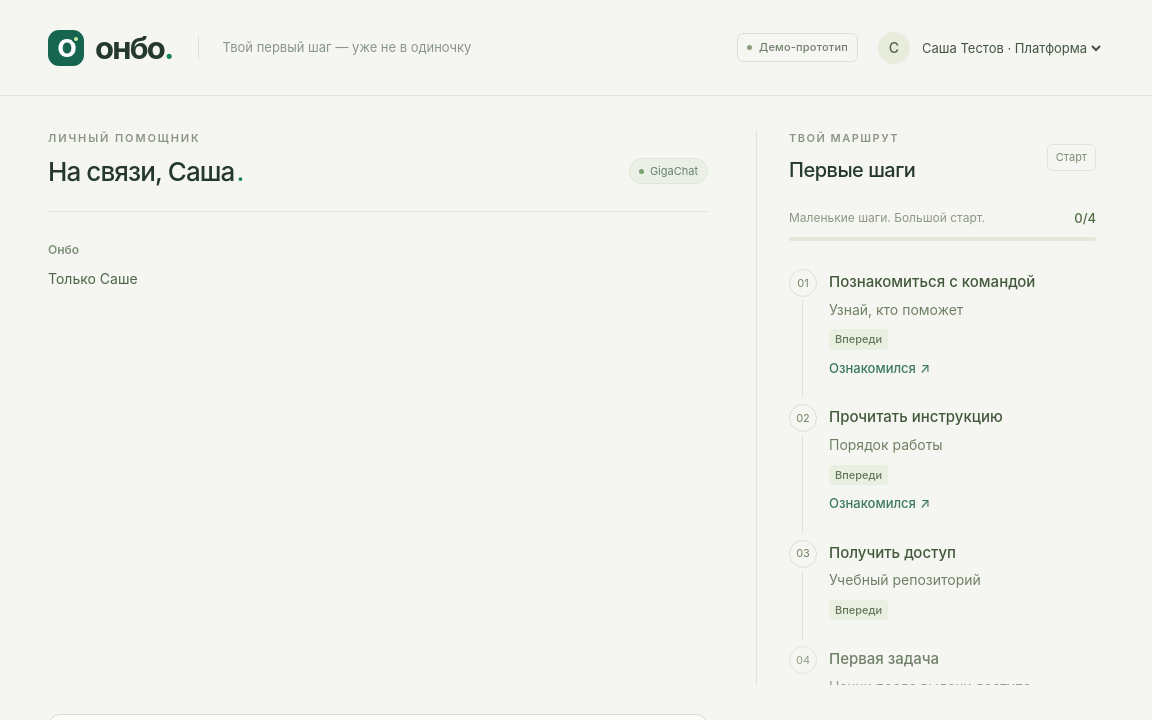
it: Onbo workspace › switches profiles without retaining the previous history and hides simulation controls outside demo mode
Expected: the heading "На связи, Саша." is shown, [48, 154, 243, 188]
Expected: the text "GigaChat" is shown, [629, 158, 708, 184]
Select "Маша Демо · Аналитика" in the dropdown named "Тестовый профиль": [1011, 48] box [918, 32, 1104, 64]
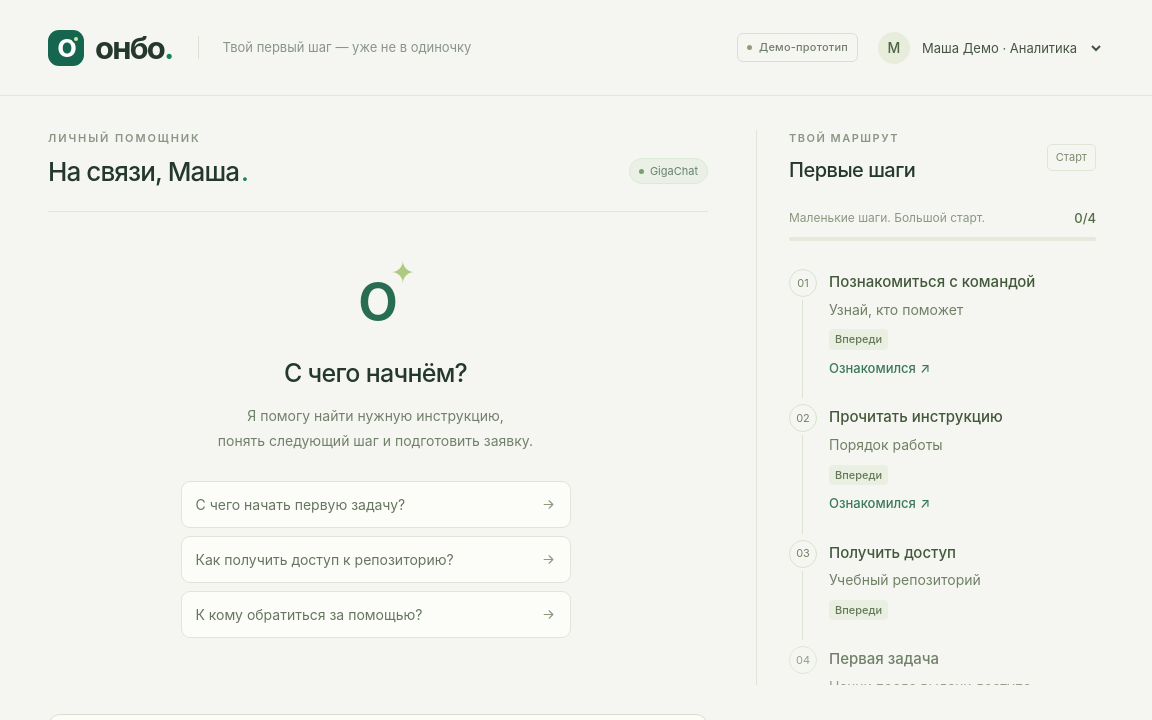
Now the heading "На связи, Маша." is shown, box [48, 154, 248, 188]
Now the text "Только Саше" is gone
